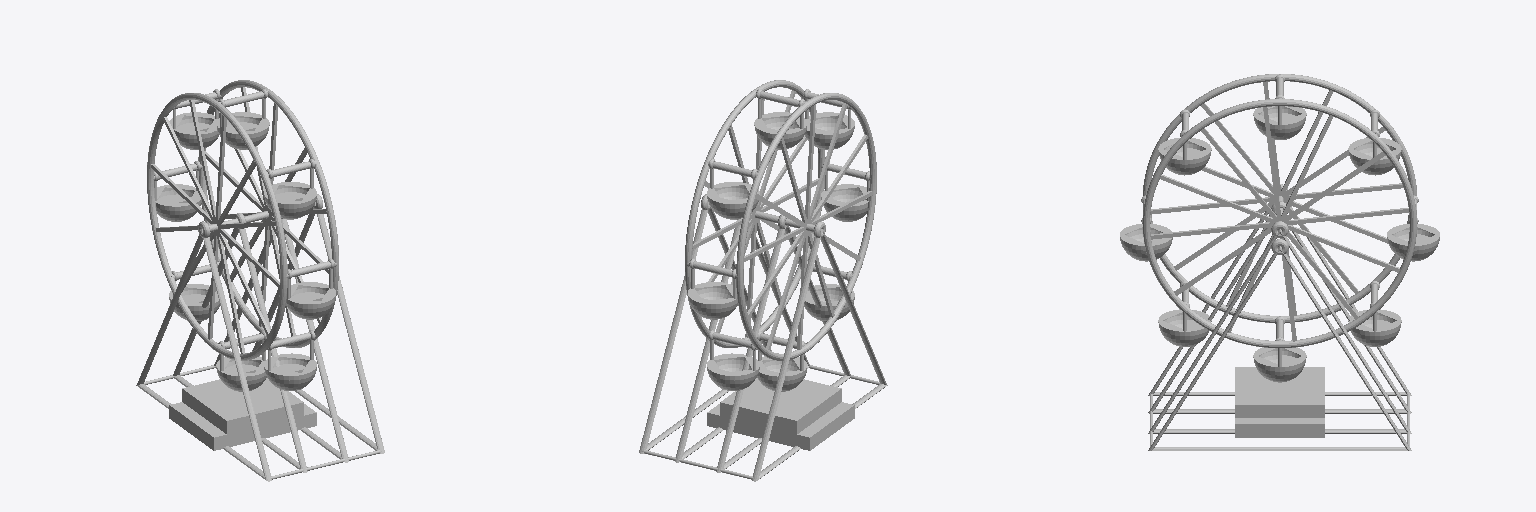
The model's file is RodaGigante2.obj.
The picture shows the model from 3 angles: view 1: azimuth 30°, elevation 25°; view 2: azimuth 150°, elevation 25°; view 3: azimuth 270°, elevation 25°; orthographic projection.
Visible parts, largest first — view 1: Cylinder.008, Cylinder.001_Cylinder.000, Cylinder.001_Cylinder.007, Cube.003, Sphere.001_Sphere.001, Sphere.001_Sphere.000, Sphere.001_Sphere.002, Sphere.001_Sphere.005, Sphere.001_Sphere.004, Cube.002, Sphere.001_Sphere.003, Sphere.001_Sphere.006 (+1 smaller); view 2: Cylinder.008, Cylinder.001_Cylinder.000, Cylinder.001_Cylinder.007, Cube.003, Sphere.001_Sphere.005, Sphere.001_Sphere.007, Sphere.001_Sphere.004, Sphere.001_Sphere.003, Cube.002, Sphere.001_Sphere.002, Sphere.001_Sphere.001, Sphere.001_Sphere.006 (+1 smaller); view 3: Cylinder.008, Cylinder.001_Cylinder.007, Cylinder.001_Cylinder.000, Cube.003, Cube.001, Sphere.001_Sphere.006, Sphere.001_Sphere.002, Sphere.001_Sphere.000, Sphere.001_Sphere.007, Sphere.001_Sphere.003, Sphere.001_Sphere.005, Sphere.001_Sphere.004 (+1 smaller).
Part boxes in pixels (x1,y1,x2,y2): Cylinder.008: (147, 80, 338, 360); Cylinder.001_Cylinder.000: (136, 218, 348, 481); Cylinder.001_Cylinder.007: (173, 194, 384, 472); Cube.003: (182, 378, 303, 446); Sphere.001_Sphere.001: (286, 259, 335, 319); Sphere.001_Sphere.000: (264, 330, 316, 390); Sphere.001_Sphere.002: (264, 159, 316, 219); Sphere.001_Sphere.005: (154, 161, 201, 221); Sphere.001_Sphere.004: (169, 89, 219, 149); Cube.002: (169, 402, 226, 450); Sphere.001_Sphere.003: (216, 89, 269, 149); Sphere.001_Sphere.006: (216, 331, 266, 391); Cylinder.008: (685, 80, 876, 360); Cylinder.001_Cylinder.000: (675, 219, 887, 481); Cylinder.001_Cylinder.007: (639, 194, 850, 472); Cube.003: (720, 378, 841, 446); Sphere.001_Sphere.005: (688, 259, 737, 319); Sphere.001_Sphere.007: (707, 330, 759, 390); Sphere.001_Sphere.004: (707, 159, 759, 219); Sphere.001_Sphere.003: (754, 89, 807, 149); Cube.002: (797, 402, 854, 450); Sphere.001_Sphere.002: (804, 89, 854, 149); Sphere.001_Sphere.001: (821, 162, 869, 221); Sphere.001_Sphere.006: (757, 331, 807, 391); Cylinder.008: (1143, 74, 1416, 347); Cylinder.001_Cylinder.007: (1148, 201, 1411, 450); Cylinder.001_Cylinder.000: (1148, 184, 1411, 433); Cube.003: (1235, 367, 1324, 417); Cube.001: (1235, 418, 1324, 437); Sphere.001_Sphere.006: (1253, 316, 1306, 382); Sphere.001_Sphere.002: (1158, 109, 1211, 175); Sphere.001_Sphere.000: (1158, 281, 1211, 346); Sphere.001_Sphere.007: (1348, 281, 1401, 346); Sphere.001_Sphere.003: (1253, 74, 1306, 139); Sphere.001_Sphere.005: (1387, 195, 1439, 261); Sphere.001_Sphere.004: (1348, 109, 1401, 175).
Size of the model in its own units: 10.01 by 24.5 by 21.6.